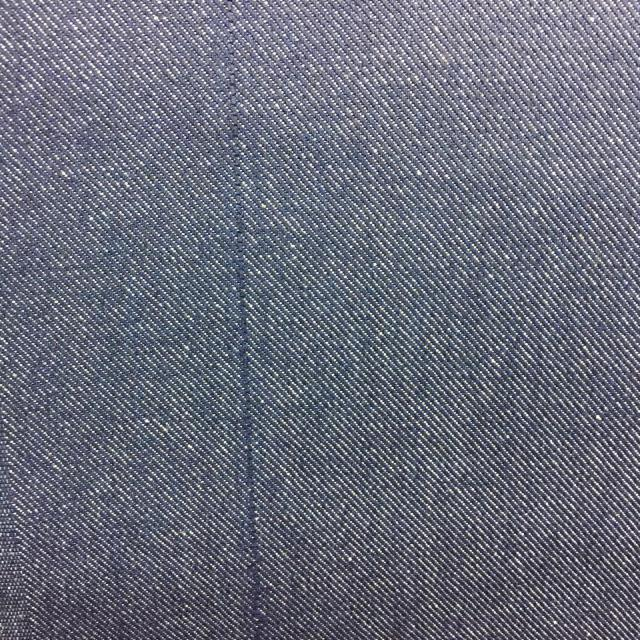Line: (215, 3, 268, 638)
